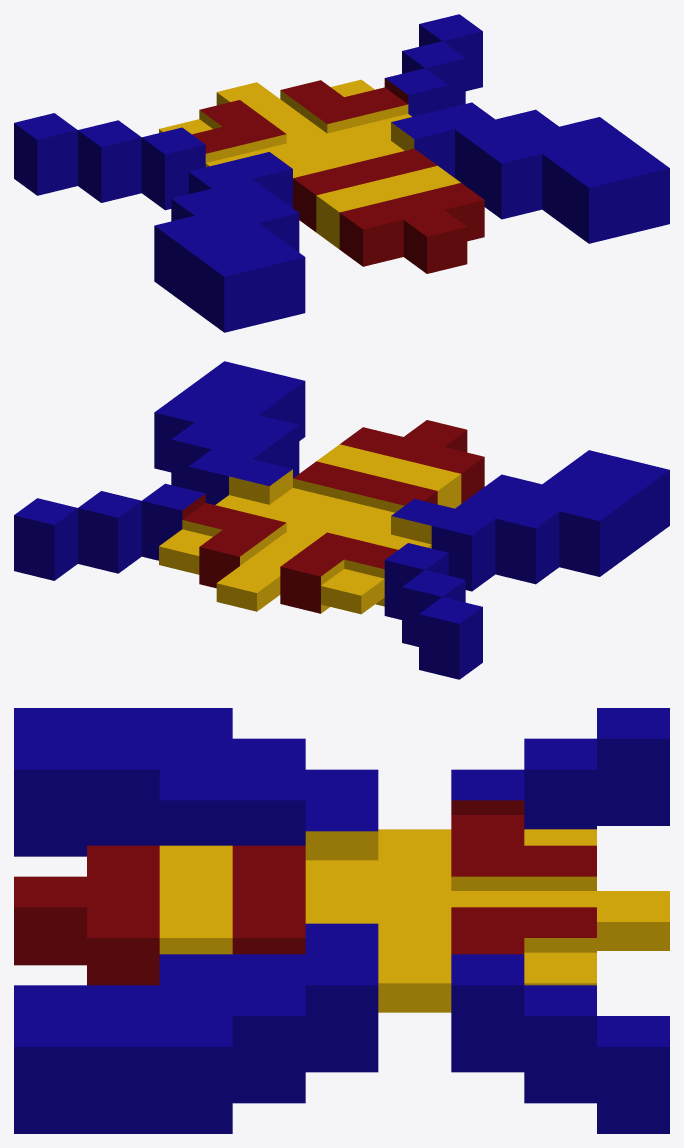
The model's file is alien2.glb.
3 views of the same model, one above another, from view 1: azimuth 30°, elevation 25°; view 2: azimuth 150°, elevation 25°; view 3: azimuth 270°, elevation 25° (orthographic). The views are drawn at different scales.
Visible parts, largest first — view 1: Plane.003; view 2: Plane.003; view 3: Plane.003.
Boxes of the visible parts, x1,y1,x2,y2 form: Plane.003: (14, 14, 669, 332); Plane.003: (14, 361, 669, 679); Plane.003: (14, 708, 669, 1133).
Bounding box in the file's own units: 2.5 × 0.3 × 2.05.
